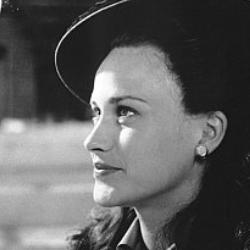face: (53, 21, 242, 241)
